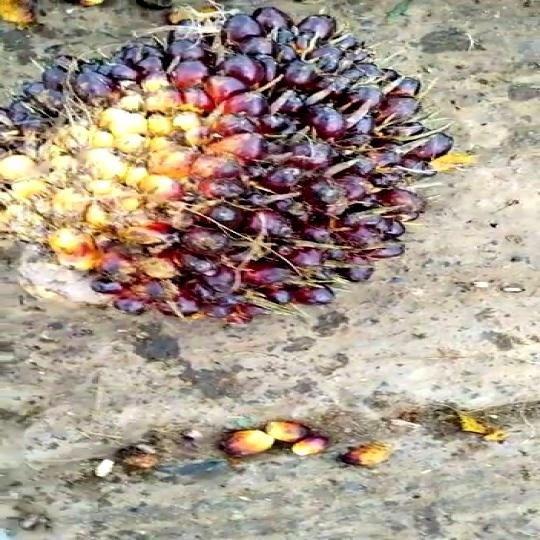mentah: (0, 2, 459, 331)
